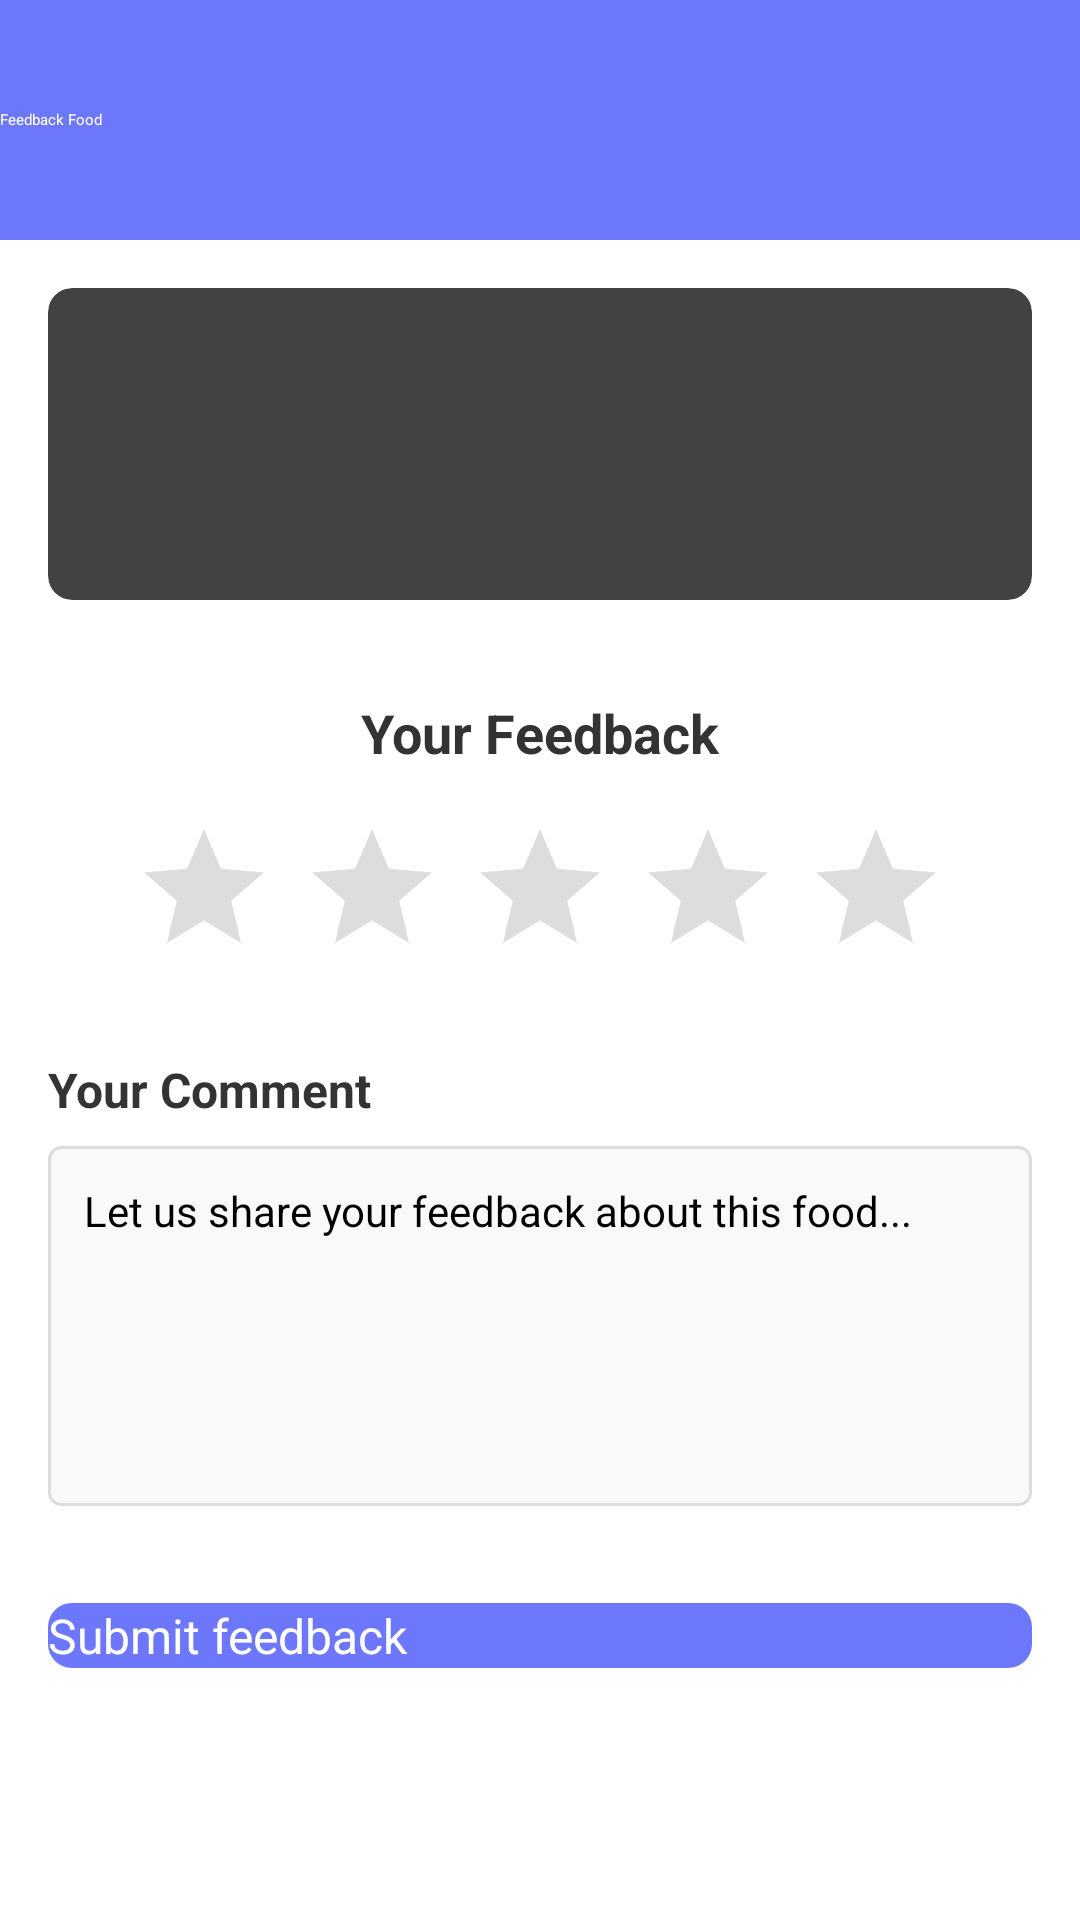

Named icons in this screenshot (1080x1920) and their bounding boxes, (x1, y1, x2, y2):
star border: (145, 831, 263, 942), (313, 831, 431, 942), (481, 831, 599, 942), (649, 831, 767, 942), (817, 831, 935, 942)
